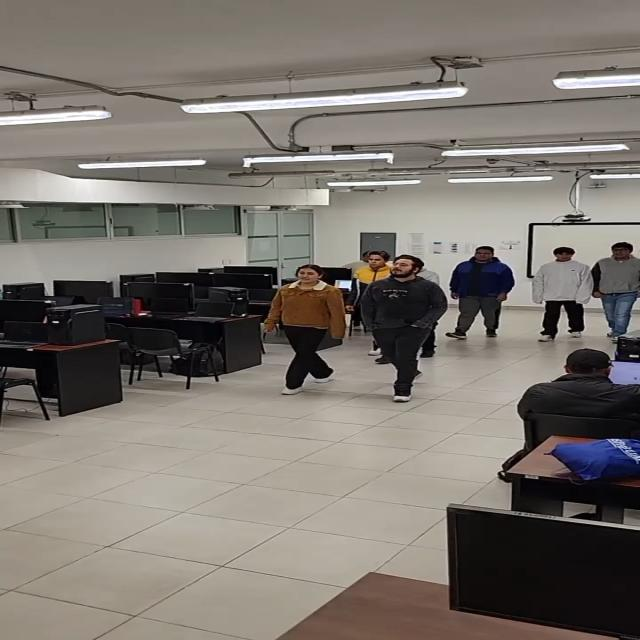Persona: (366, 256, 431, 386), (273, 262, 339, 386), (452, 244, 512, 334), (599, 243, 640, 333), (545, 246, 584, 328), (348, 244, 390, 278)
